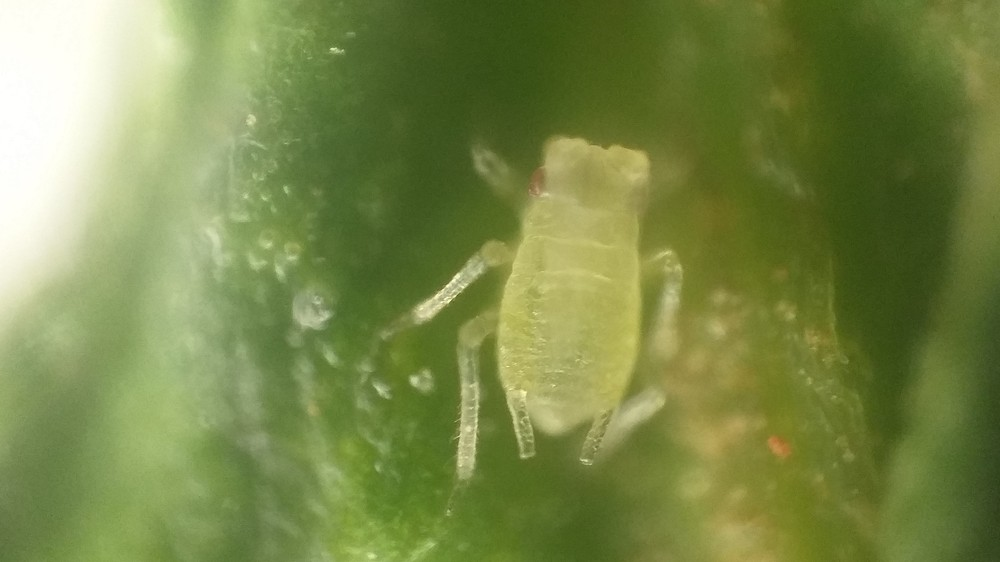Pulgon: (389, 86, 761, 503)
